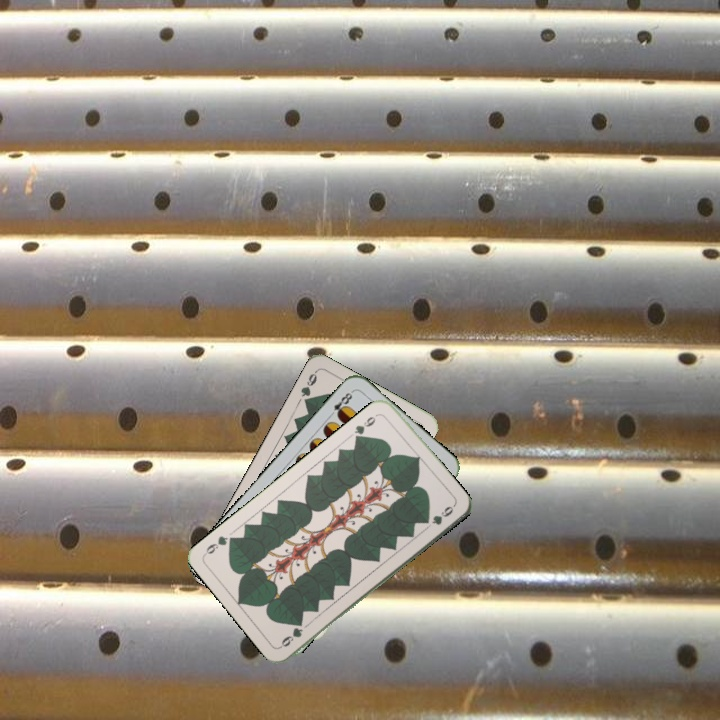E8: (325, 387, 356, 420)
G9: (350, 410, 382, 443), (297, 367, 320, 408), (276, 623, 305, 650)
